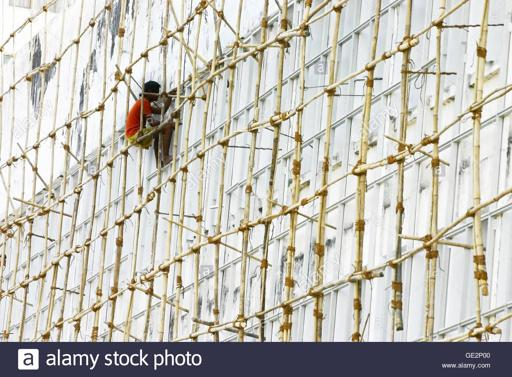unsafe person: (125, 73, 180, 164)
